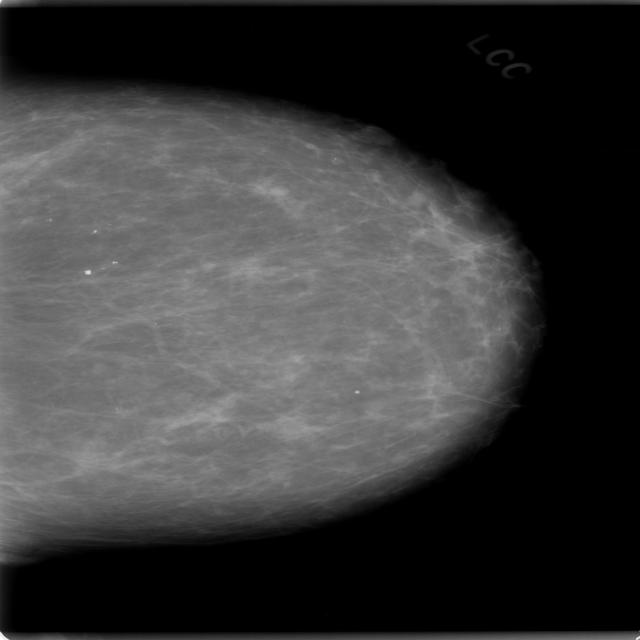normal: (0, 52, 568, 544)
